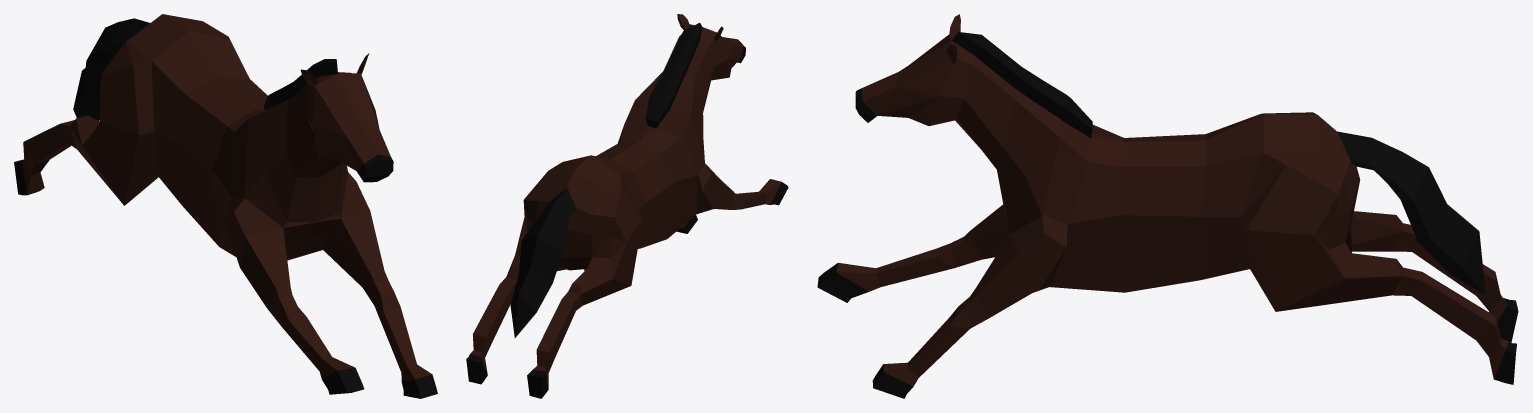
Rendered from Horse_000015.obj.
3 renders of one model, left to right at view 1: azimuth 30°, elevation 25°; view 2: azimuth 150°, elevation 25°; view 3: azimuth 270°, elevation 25°, orthographic. The views are drawn at different scales.
Parts seen in each view (by area): view 1: Horse_Cylinder; view 2: Horse_Cylinder; view 3: Horse_Cylinder.
Boxes of the visible parts, x1,y1,x2,y2 form: Horse_Cylinder: (14, 14, 437, 398); Horse_Cylinder: (466, 14, 788, 398); Horse_Cylinder: (817, 14, 1518, 398).
Bounding box in the file's own units: 2.56 × 5.8 × 10.89.
